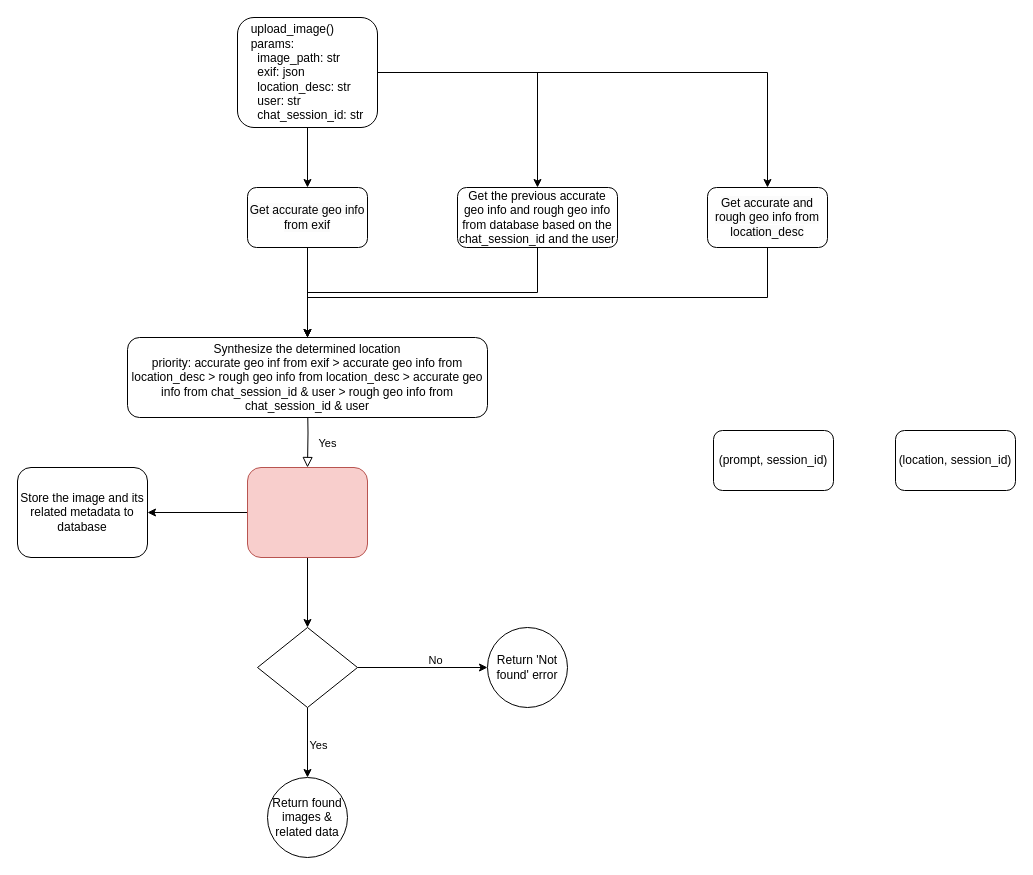
Image size: 1033x875. Some labels were removed from this diagram. Each missing label, with the box of its shape:
Found similar images: (256, 626, 358, 708)
Retrieve similar images based on embedding & geo info in exif: (246, 466, 368, 558)
